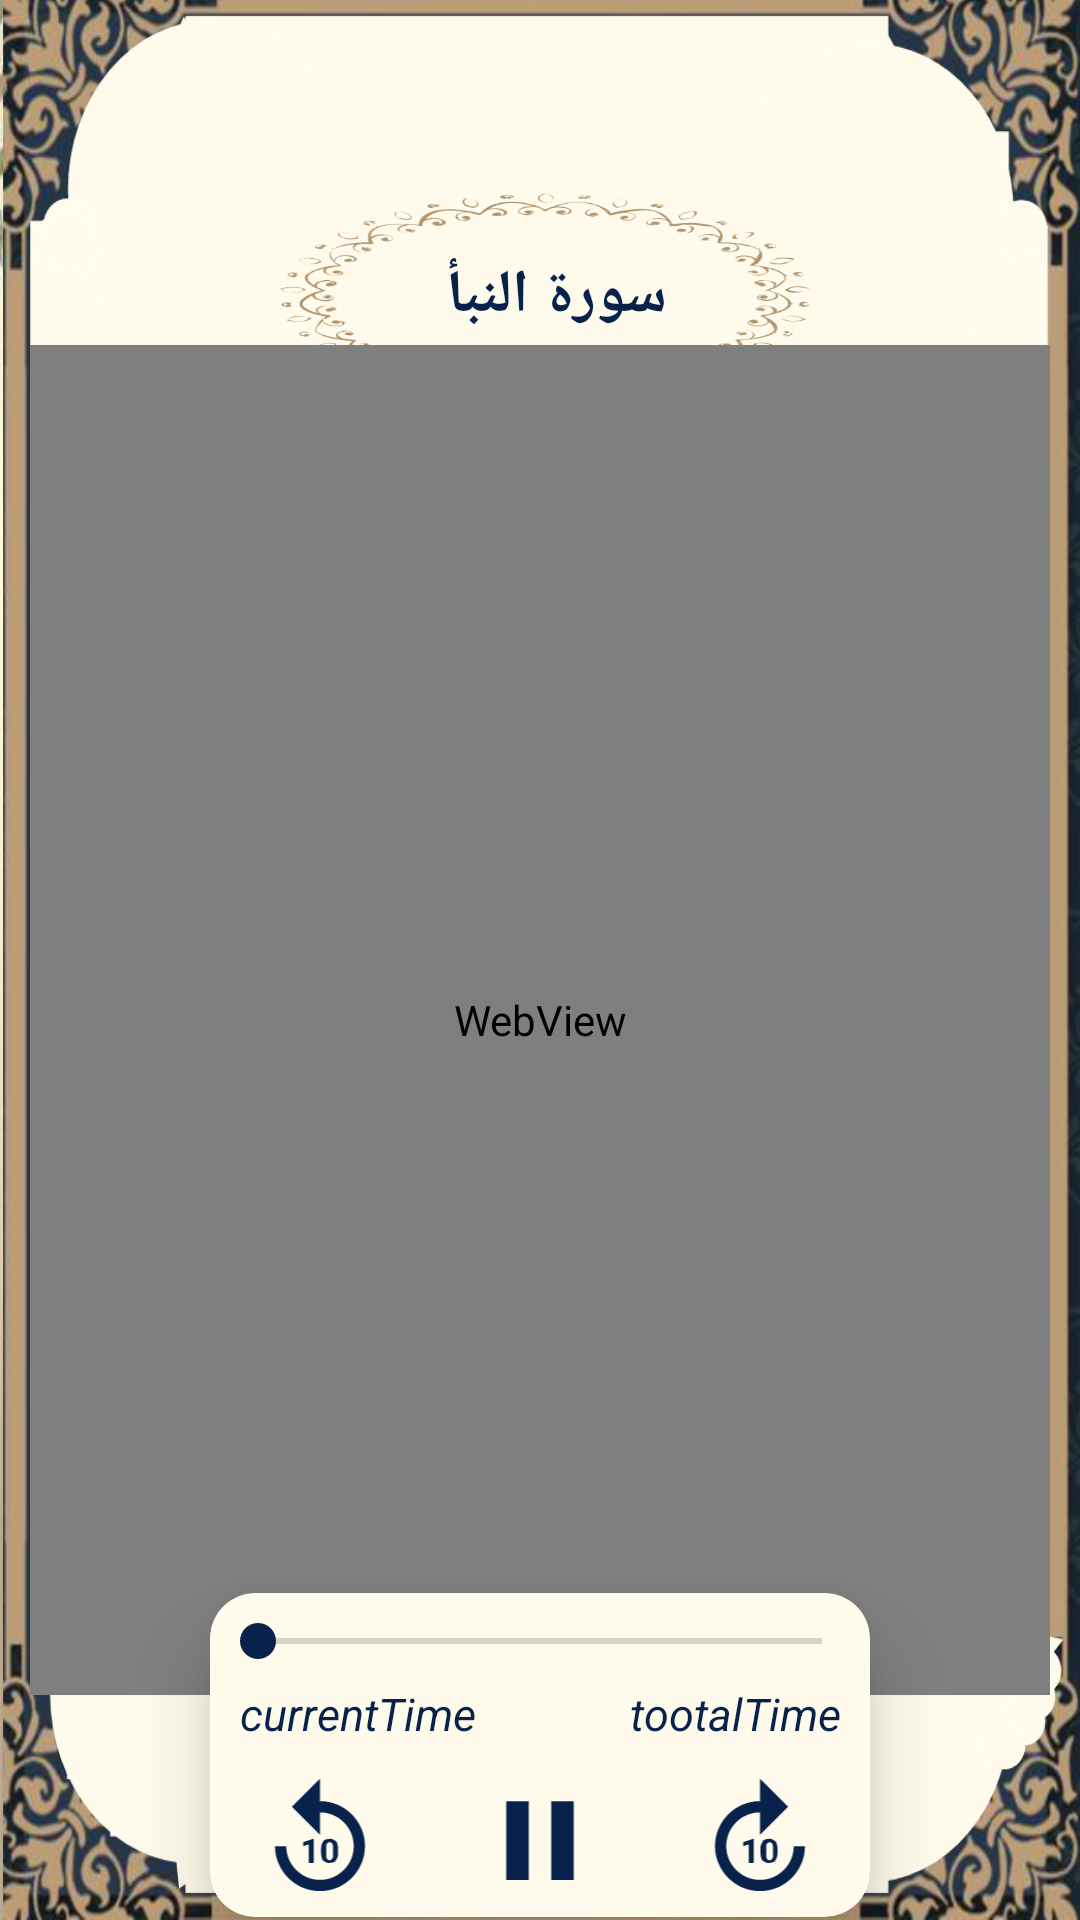

Where to tap for icons on this 1080px x 1920px app screen, as point (x, y):
forward: point (760, 1835)
pause: point (540, 1840)
replay: point (320, 1835)
